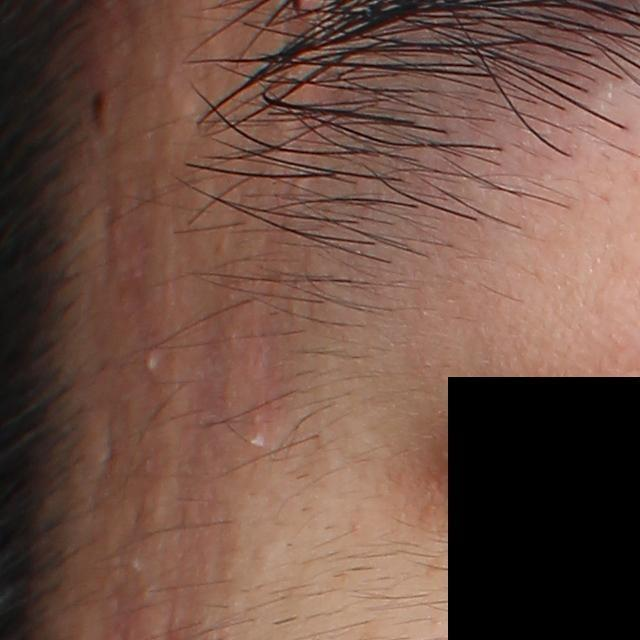pustule: (139, 346, 168, 378)
